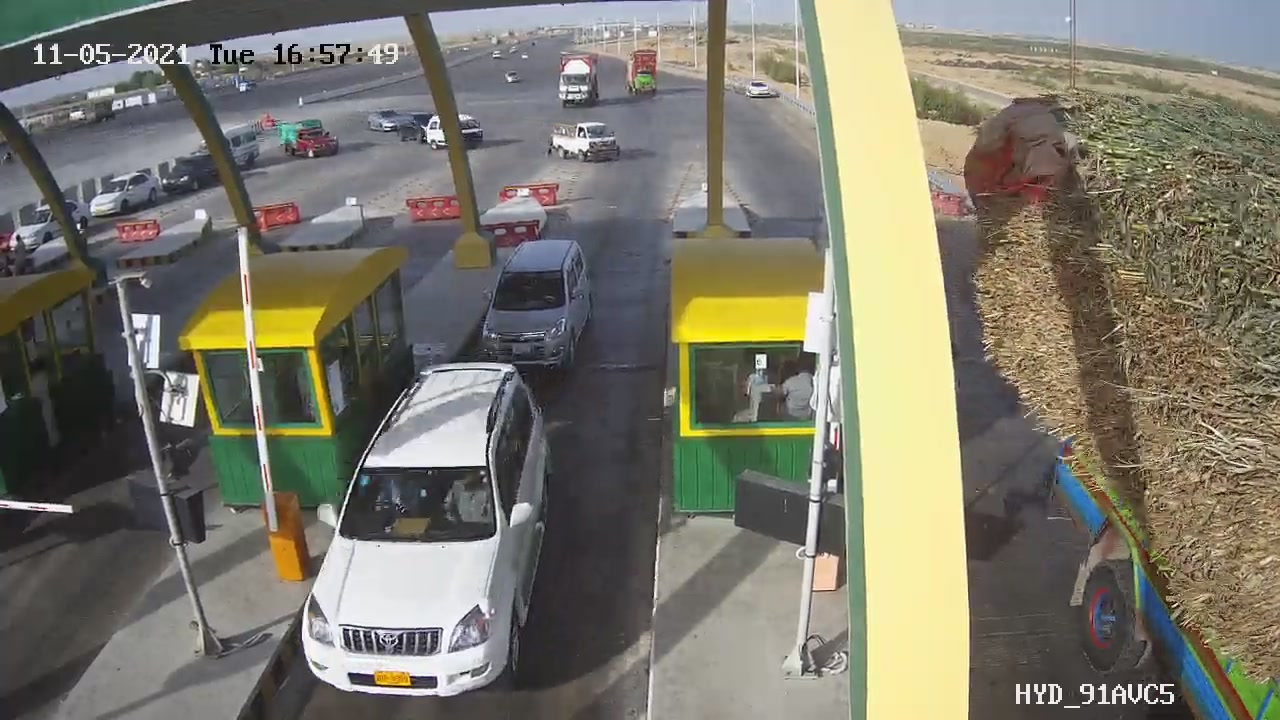F1: (462, 223, 610, 386)
